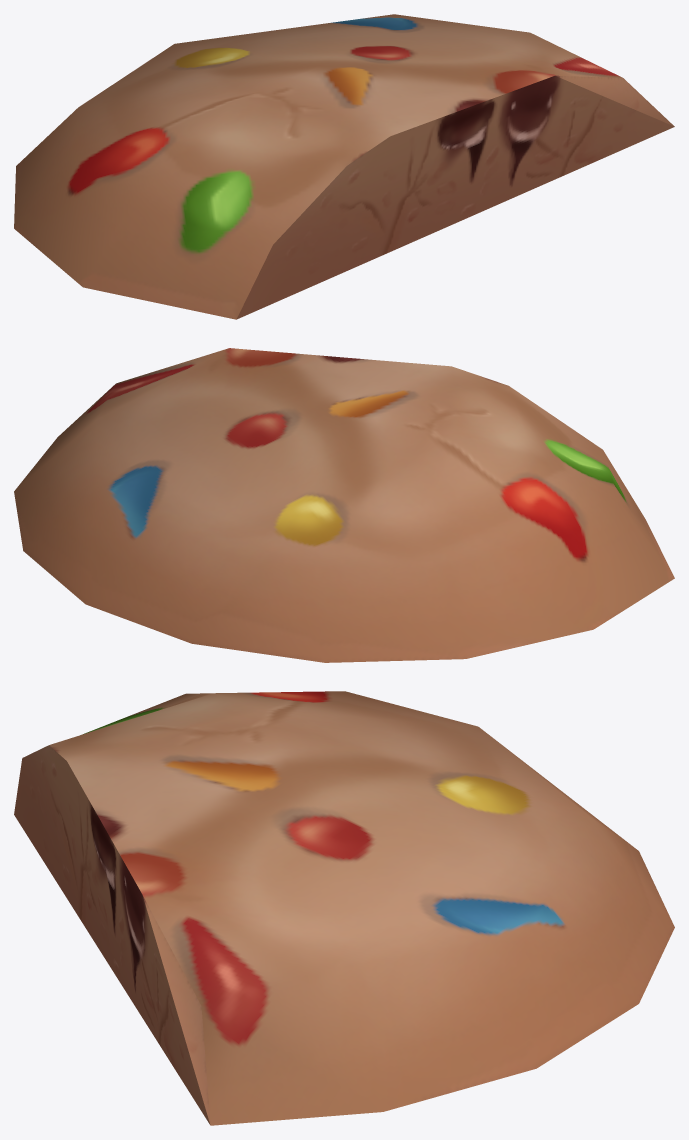
The model's file is cookiecolorful_001.fbx.
3 renders of one model, top to bottom at view 1: azimuth 30°, elevation 25°; view 2: azimuth 150°, elevation 25°; view 3: azimuth 270°, elevation 25°, orthographic. The views are drawn at different scales.
Visible parts, largest first — view 1: cookiecolorful.001; view 2: cookiecolorful.001; view 3: cookiecolorful.001.
Part boxes in pixels (x1,y1,x2,y2): cookiecolorful.001: [14, 14, 674, 319]; cookiecolorful.001: [14, 348, 674, 662]; cookiecolorful.001: [14, 691, 674, 1125].
Size of the model in its own units: 9.83 by 2 by 7.12.
